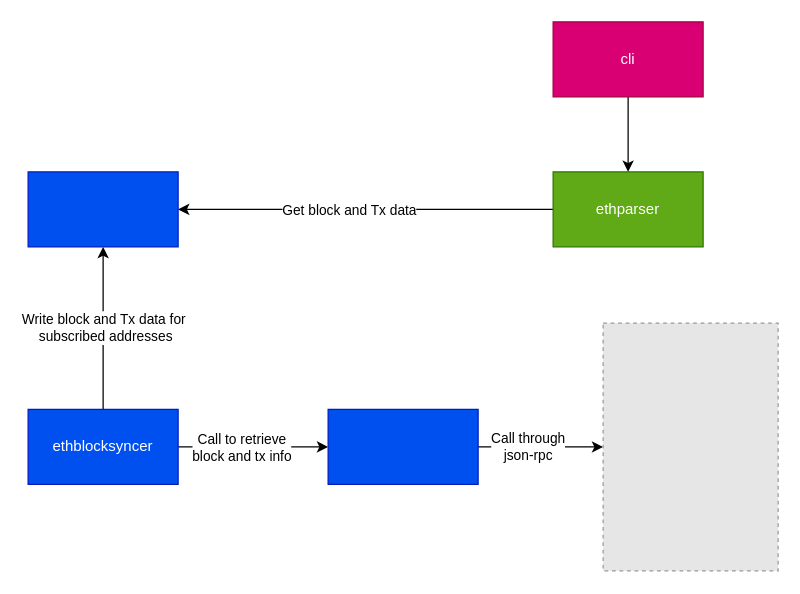
This 800x594 diagram has some shape labels left out. Grey dashed boxes stand in for pictures. Here are the shapes that lost their labels. From the top down, the centre of each, then its label:
At point (102, 209): "datastore".
At point (402, 446): "ethgateway".
